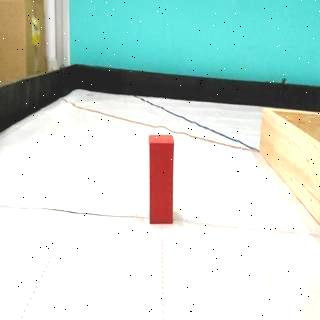redbox: (148, 134, 174, 225)
